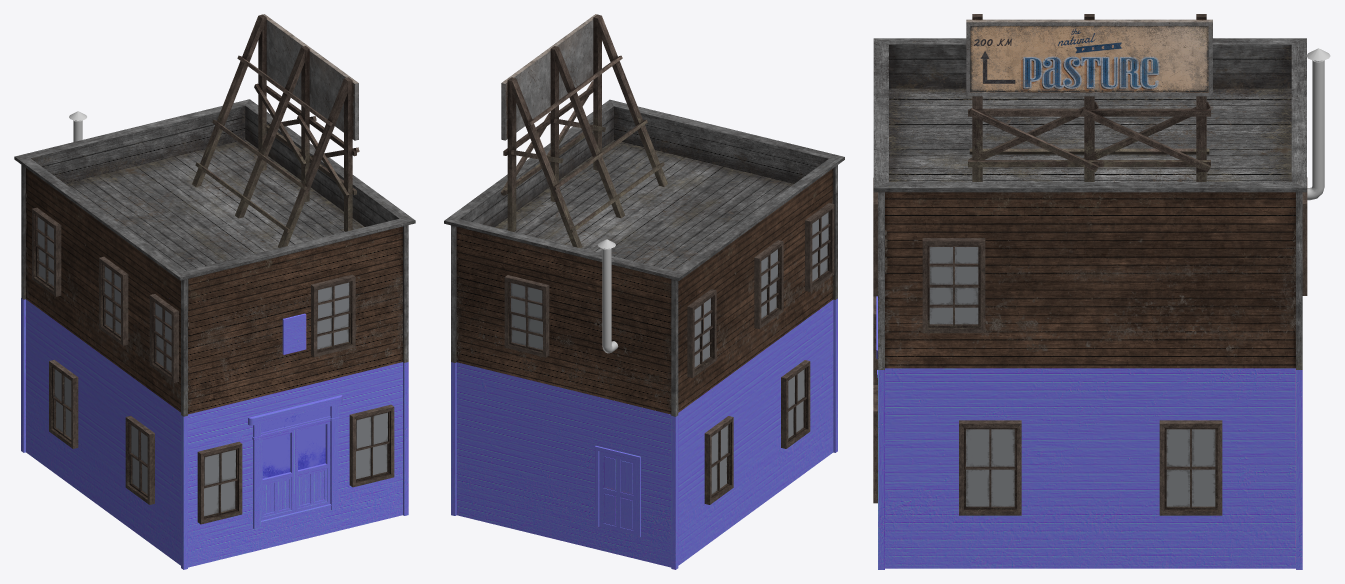
Rendered from RoofTop_Background12.fbx.
3 views of the same model, side by side, from view 1: azimuth 30°, elevation 25°; view 2: azimuth 150°, elevation 25°; view 3: azimuth 270°, elevation 25° (orthographic). The views are drawn at different scales.
Visible parts, largest first — view 1: t_002_b001_2_1, t_002_b003_1, t_002_b002_1_1, other_001, window_001_4, window_001_3, window_002_2__1_, window_002_2, window_002_1, window_001_2, window_001_1, window_002_4 (+1 smaller); view 2: t_002_b001_2_1, t_002_b003_1, t_002_b002_1_1, other_001, t002_door001, window_002_2__2_, window_002_2, window_002_1, window_001_2, window_001_1, window_002_4, chimney_1_2; view 3: t_002_b001_2_1, t_002_b003_1, t_002_b002_1_1, other_001, window_001_2__1_, window_002_1__1_, window_001_1__1_, chimney_1_2, window_002_2__2_, window_001_4.
Part boxes in pixels (bbox=[...]): t_002_b001_2_1: bbox=[21, 298, 408, 569]; t_002_b003_1: bbox=[14, 99, 415, 310]; t_002_b002_1_1: bbox=[21, 192, 408, 416]; other_001: bbox=[192, 14, 359, 247]; window_001_4: bbox=[349, 404, 394, 487]; window_001_3: bbox=[197, 441, 242, 524]; window_002_2__1_: bbox=[311, 274, 355, 357]; window_002_2: bbox=[99, 256, 128, 345]; window_002_1: bbox=[32, 207, 61, 296]; window_001_2: bbox=[49, 359, 78, 448]; window_001_1: bbox=[125, 416, 154, 504]; window_002_4: bbox=[149, 294, 178, 382]; t_002_b001_2_1: bbox=[451, 298, 837, 569]; t_002_b003_1: bbox=[444, 99, 844, 310]; t_002_b002_1_1: bbox=[451, 192, 837, 416]; other_001: bbox=[500, 14, 667, 248]; t002_door001: bbox=[595, 446, 640, 537]; window_002_2__2_: bbox=[504, 275, 549, 357]; window_002_2: bbox=[754, 240, 783, 329]; window_002_1: bbox=[687, 289, 716, 377]; window_001_2: bbox=[704, 416, 733, 504]; window_001_1: bbox=[781, 360, 810, 448]; window_002_4: bbox=[805, 203, 834, 291]; chimney_1_2: bbox=[598, 239, 618, 353]; t_002_b001_2_1: bbox=[876, 296, 1302, 569]; t_002_b003_1: bbox=[873, 38, 1306, 231]; t_002_b002_1_1: bbox=[878, 230, 1302, 369]; other_001: bbox=[966, 14, 1212, 181]; window_001_2__1_: bbox=[1159, 420, 1222, 515]; window_002_1__1_: bbox=[922, 238, 985, 333]; window_001_1__1_: bbox=[959, 420, 1021, 515]; chimney_1_2: bbox=[1306, 48, 1330, 200]; window_002_2__2_: bbox=[1302, 177, 1307, 295]; window_001_4: bbox=[873, 385, 877, 503].
Size of the model in its own units: 826 by 1386 by 1063.
